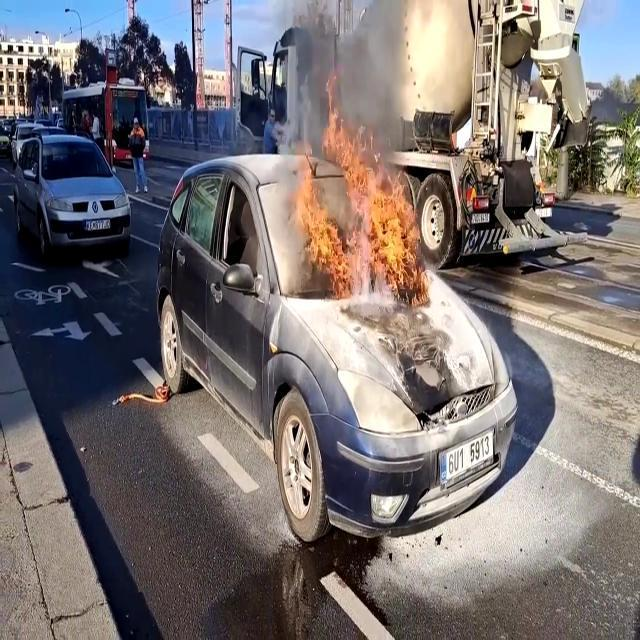Fire: (299, 151, 426, 305)
Smoke: (284, 0, 418, 174)
